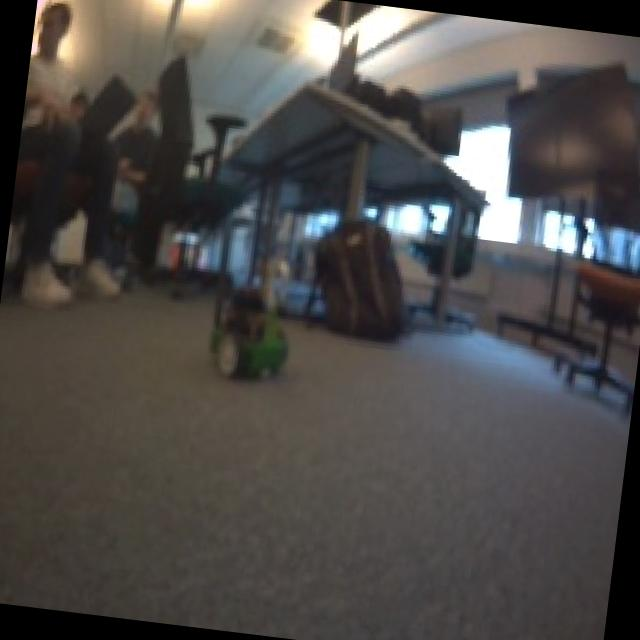robot: (202, 282, 298, 384)
